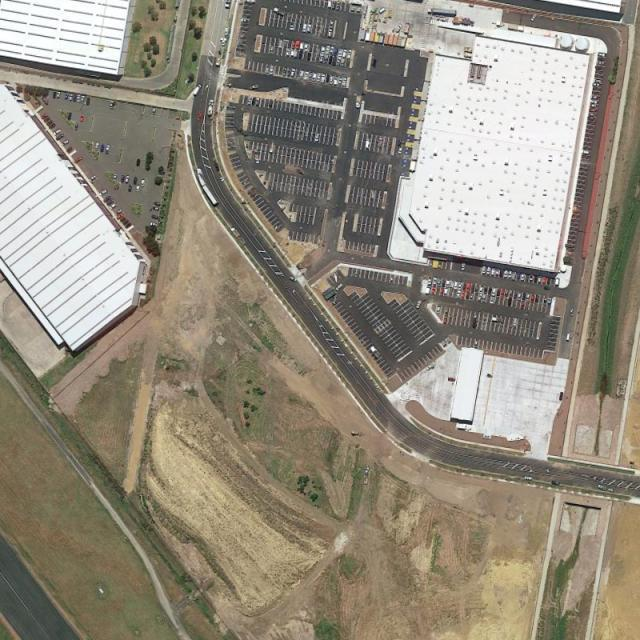vehicle: (272, 6, 284, 16), (354, 94, 362, 108), (193, 83, 201, 94), (55, 134, 66, 141), (53, 128, 62, 135), (61, 139, 70, 146), (73, 157, 83, 163), (320, 74, 326, 84), (365, 138, 370, 150), (425, 286, 431, 296), (364, 467, 370, 477), (89, 174, 96, 182), (110, 202, 117, 210), (99, 142, 104, 153), (304, 42, 309, 53), (79, 114, 85, 123), (103, 196, 112, 202), (306, 23, 312, 32), (327, 29, 333, 38), (415, 299, 421, 308), (289, 276, 298, 282), (524, 475, 533, 481), (106, 144, 111, 154), (290, 68, 295, 78), (530, 293, 535, 303), (335, 283, 342, 290), (106, 199, 114, 205), (320, 46, 326, 54), (436, 306, 442, 314), (109, 100, 114, 109), (152, 108, 157, 117), (67, 112, 72, 121), (302, 23, 307, 32), (295, 40, 300, 49), (341, 58, 346, 67), (314, 132, 319, 141), (503, 269, 508, 278), (517, 293, 522, 302), (526, 293, 531, 302), (432, 286, 437, 295), (500, 289, 505, 298), (547, 297, 552, 306), (521, 273, 526, 282), (537, 275, 542, 284), (594, 79, 603, 84), (592, 82, 601, 87), (570, 307, 574, 318), (100, 189, 107, 195), (115, 209, 122, 215), (116, 213, 123, 219), (94, 142, 98, 152), (68, 94, 73, 102), (81, 95, 86, 103), (133, 177, 138, 185), (150, 222, 158, 227), (342, 48, 346, 58), (290, 49, 295, 57), (338, 77, 342, 87), (461, 262, 466, 270), (491, 266, 495, 276), (454, 280, 458, 290), (444, 288, 449, 296), (455, 290, 460, 298), (478, 286, 483, 294), (512, 272, 517, 280), (566, 333, 571, 341), (596, 61, 606, 65), (582, 150, 590, 155), (126, 175, 130, 184), (290, 21, 294, 30), (326, 45, 330, 54), (330, 46, 334, 55), (347, 50, 351, 59), (270, 66, 274, 75), (342, 77, 346, 86), (312, 72, 316, 81), (482, 265, 486, 274), (508, 269, 512, 278), (428, 276, 432, 285), (458, 281, 462, 290), (466, 282, 470, 291), (482, 294, 486, 303), (492, 286, 496, 295), (505, 289, 509, 298), (542, 277, 546, 286), (550, 481, 559, 485), (591, 95, 600, 99), (589, 104, 598, 108), (588, 108, 597, 112), (77, 94, 81, 102), (121, 175, 125, 183), (129, 184, 133, 192), (291, 41, 295, 49), (338, 49, 342, 57), (319, 54, 323, 62), (222, 38, 226, 46), (486, 266, 490, 274), (446, 278, 450, 286), (478, 294, 482, 302), (433, 277, 437, 285), (462, 282, 466, 290), (474, 340, 478, 348), (598, 53, 606, 57), (590, 99, 598, 103), (521, 302, 525, 310), (330, 75, 333, 85), (56, 91, 60, 98), (141, 179, 145, 186), (136, 186, 140, 193), (286, 49, 290, 56), (336, 58, 340, 65), (470, 293, 474, 300), (461, 291, 465, 298), (490, 296, 494, 303), (509, 290, 513, 297), (300, 41, 303, 50), (114, 174, 117, 182)
